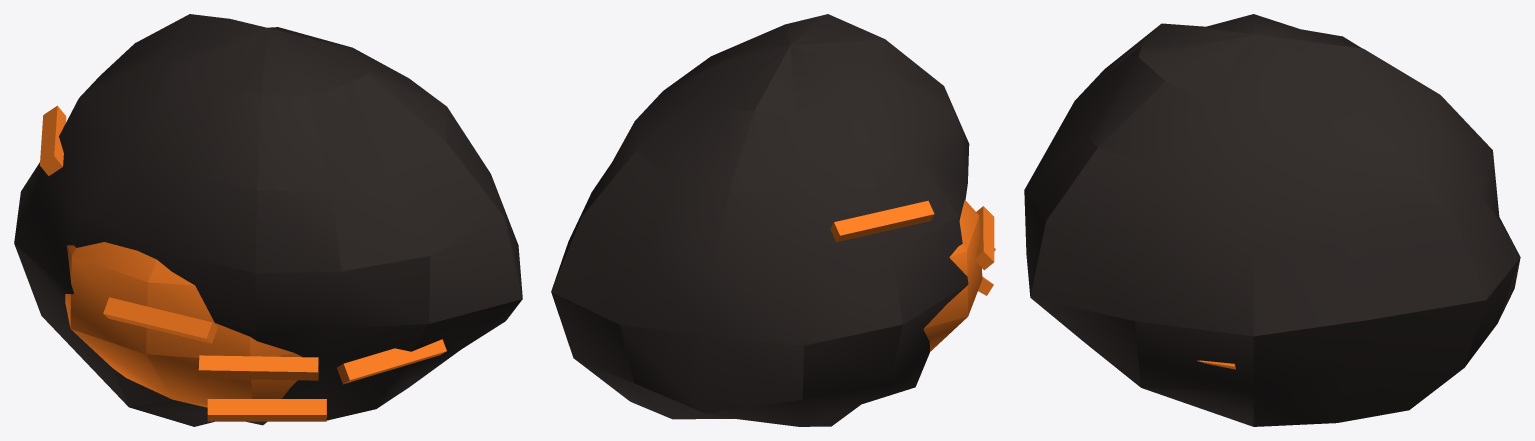
The model's file is brocken_2.obj.
3 renders of one model, left to right at view 1: azimuth 30°, elevation 25°; view 2: azimuth 150°, elevation 25°; view 3: azimuth 270°, elevation 25°, orthographic. The views are drawn at different scales.
Visible parts, largest first — view 1: brocken_2_Koerper; view 2: brocken_2_Koerper; view 3: brocken_2_Koerper.
Part boxes in pixels (bbox=[...]): brocken_2_Koerper: bbox=[14, 14, 522, 426]; brocken_2_Koerper: bbox=[551, 14, 995, 426]; brocken_2_Koerper: bbox=[1024, 14, 1520, 426].
Size of the model in its own units: 1.62 by 1.44 by 1.79.
